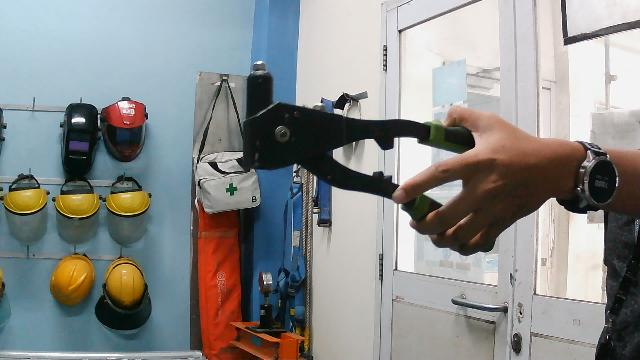tang_rivet: (243, 60, 480, 246)
